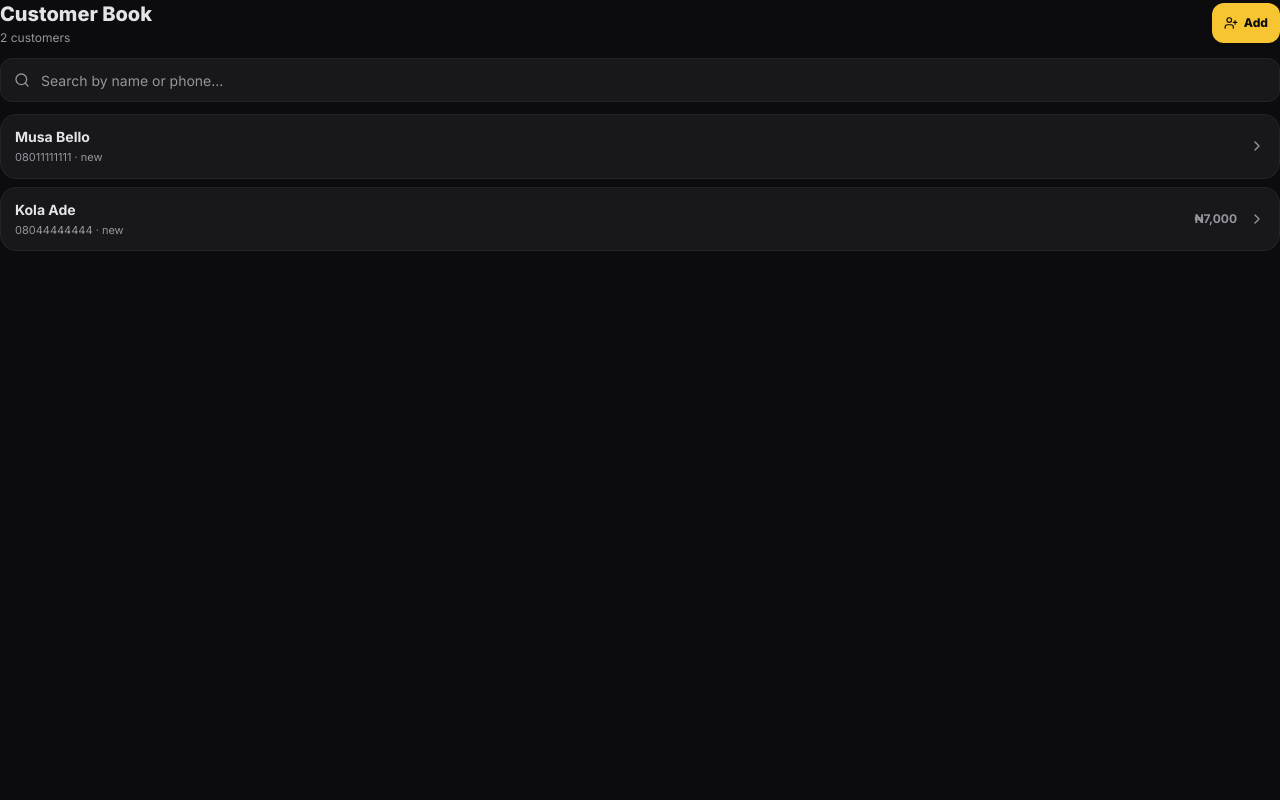
it: a customer's page › does not say nothing was bought, above the bundles they brought
The width and height of the screenshot is (1280, 800).
Click the button "Musa Bello 08011111111 · new" at point(52, 136), box left=1, top=115, right=1279, bottom=178
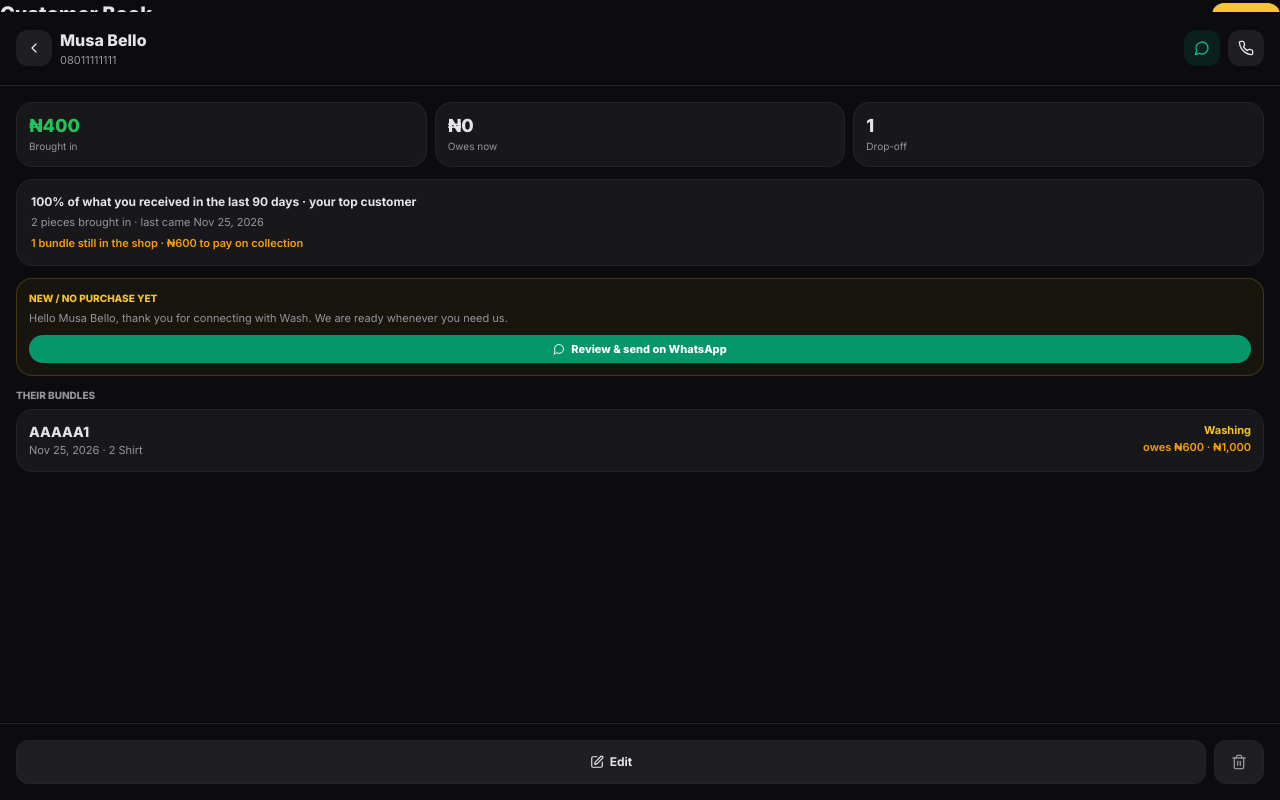
Result: the text "2 pieces brought in · last came Nov 25, 2026" is shown at left=31, top=215, right=264, bottom=229
